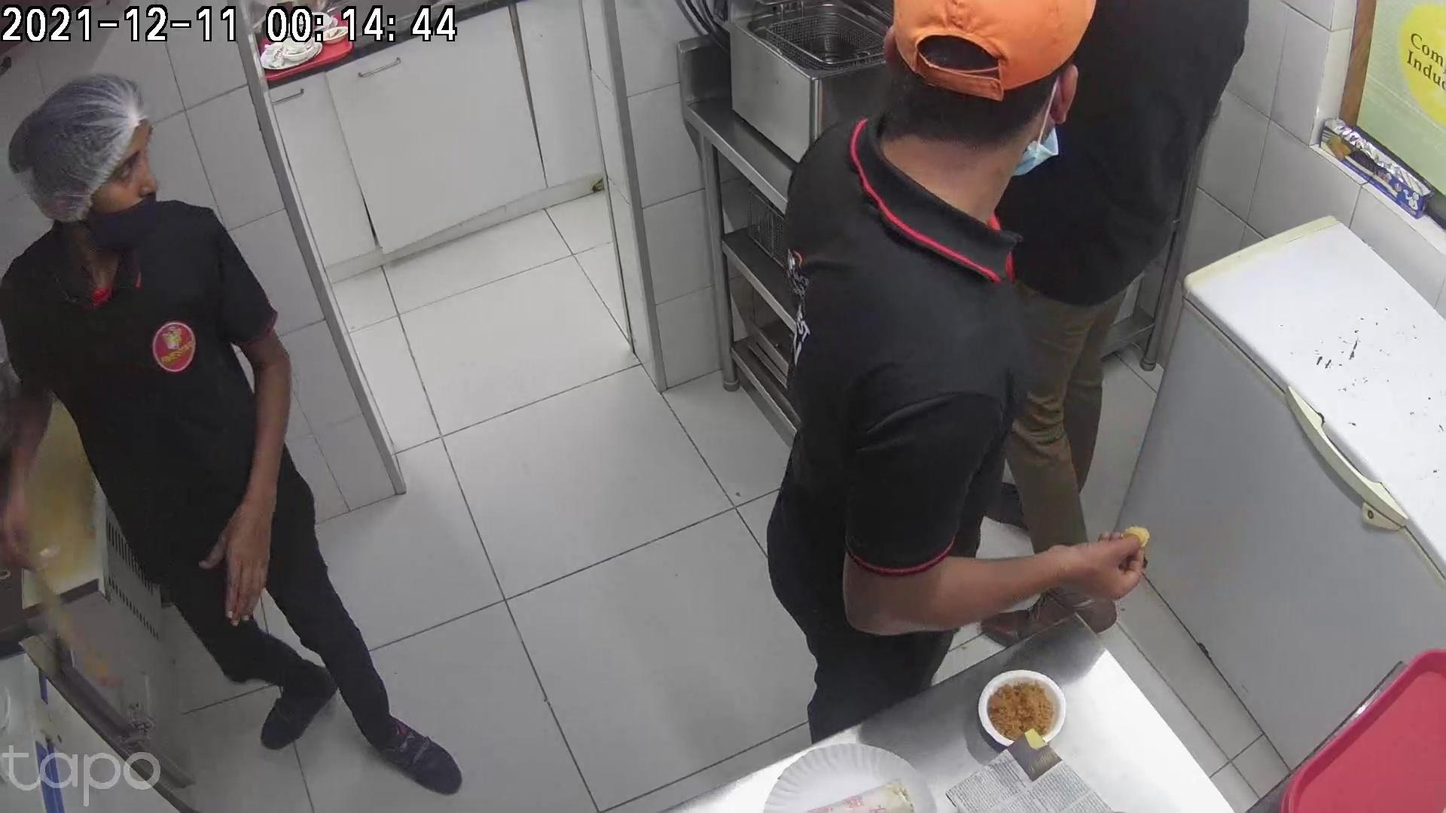gloves: (623, 547, 757, 762)
no_gloves: (360, 700, 496, 809)
